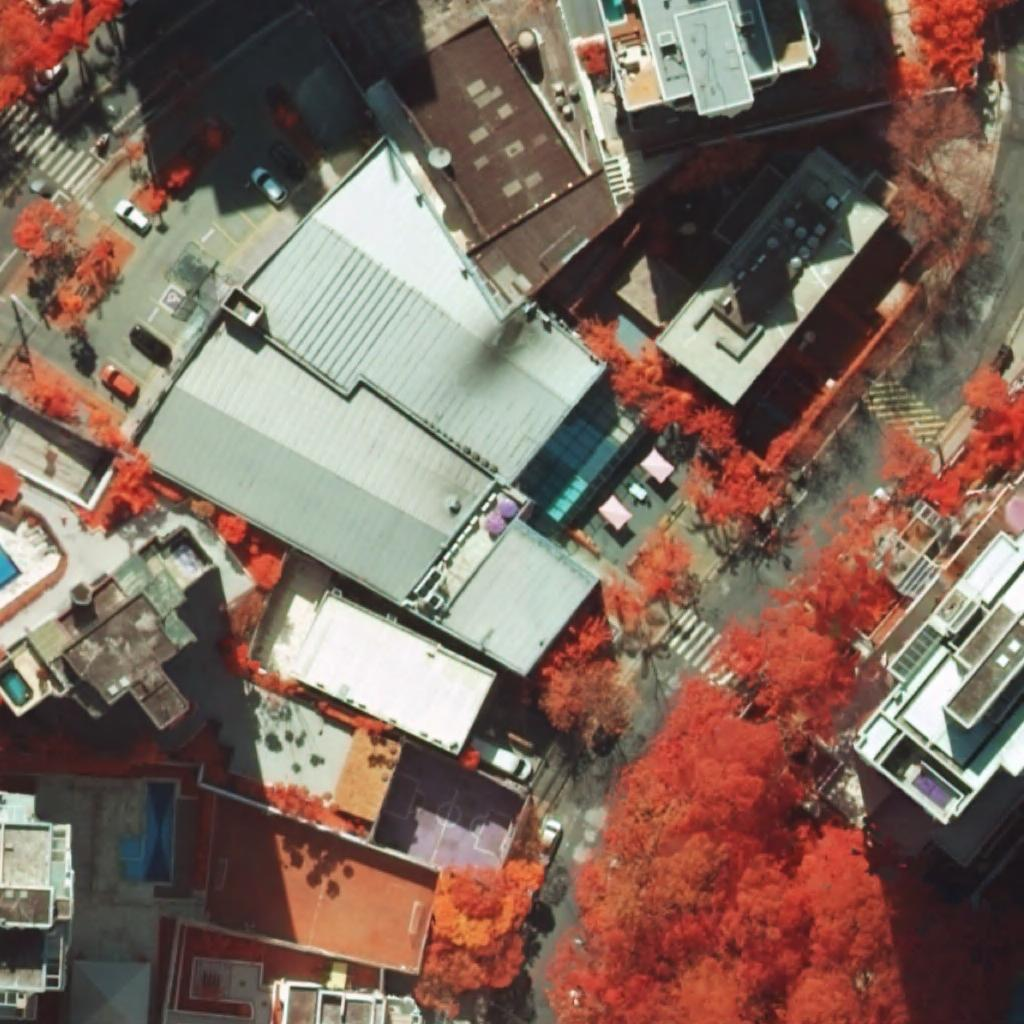pool: (119, 782, 175, 881), (912, 769, 954, 810), (601, 0, 625, 22)
